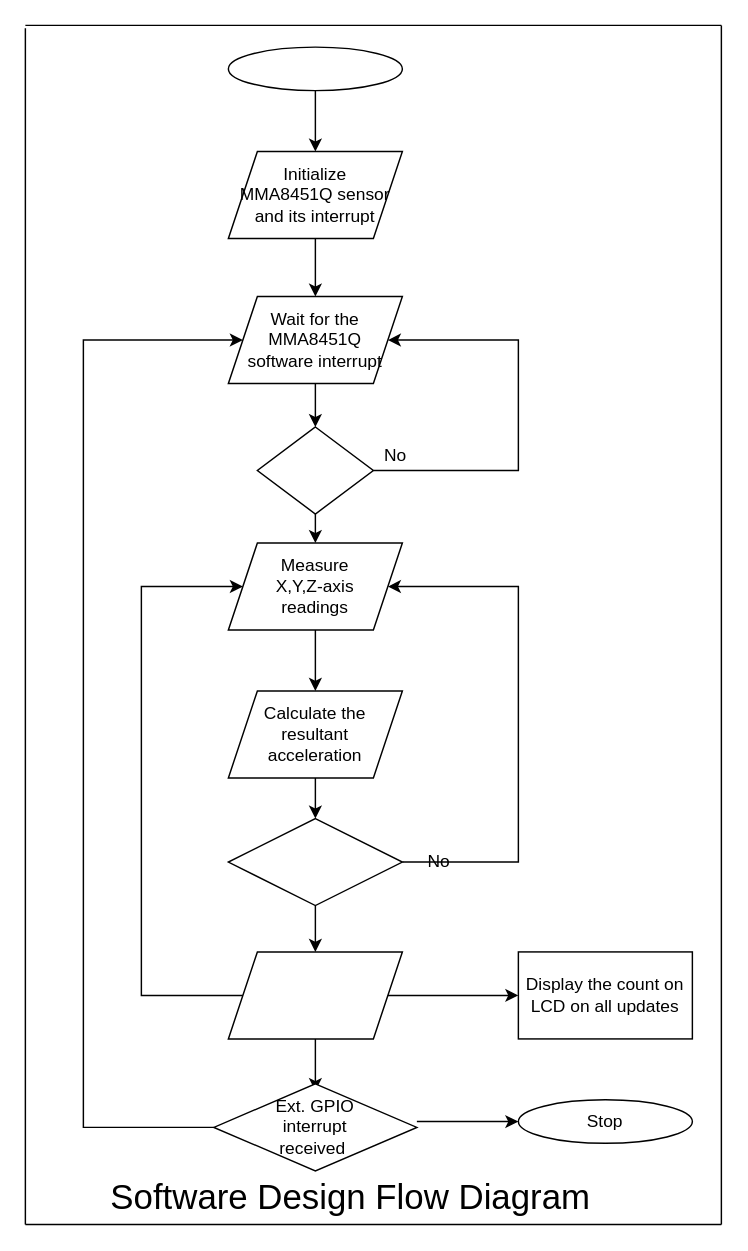
This 748x1251 diagram has some shape labels left out. The shapes that lost their labels are listed below. From the top down, each one's box as (x1, y1, x2, y2) in pixels, then its label:
(227, 46, 402, 91): Start
(256, 426, 373, 514): Received
(227, 817, 402, 906): Value > Threshold
(227, 950, 402, 1039): Increase step count
